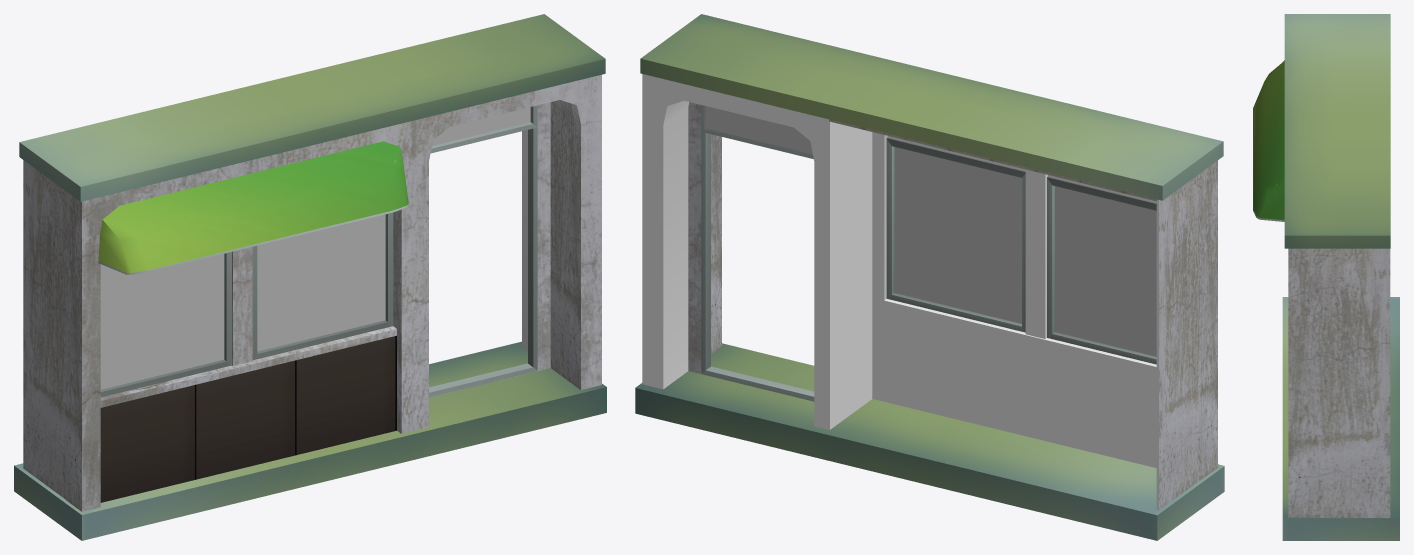
File: shop_f_cafe2.fbx
3 renders of one model, left to right at view 1: azimuth 30°, elevation 25°; view 2: azimuth 150°, elevation 25°; view 3: azimuth 270°, elevation 25°, orthographic. The views are drawn at different scales.
Visible parts, largest first — view 1: shop_f_cafe2; view 2: shop_f_cafe2; view 3: shop_f_cafe2.
Part boxes in pixels (<box>): shop_f_cafe2: <box>14,14,606,540</box>; shop_f_cafe2: <box>635,14,1224,540</box>; shop_f_cafe2: <box>1253,14,1399,540</box>.
Bounding box in the file's own units: 5.43 × 3.49 × 1.52.
